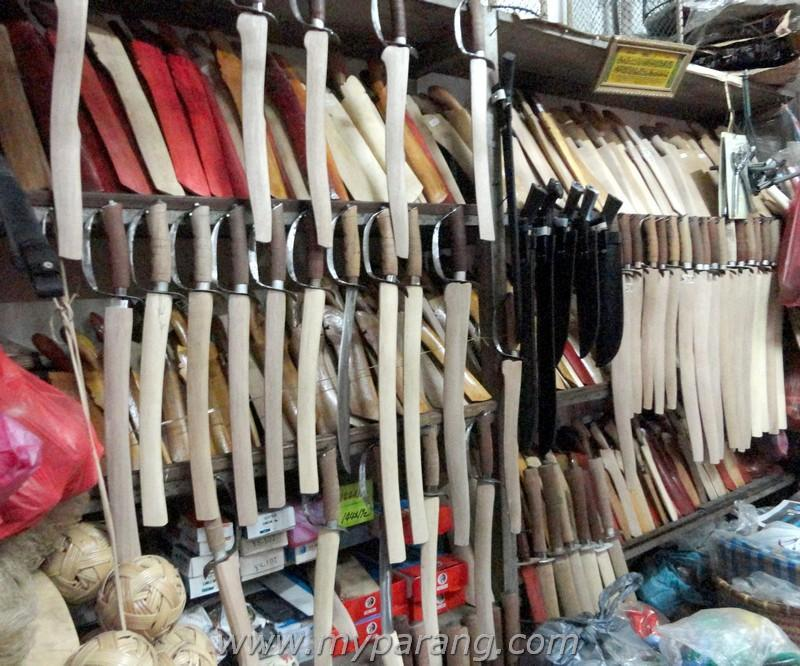facao: (80, 194, 133, 564), (430, 199, 481, 541), (209, 215, 263, 536), (237, 197, 293, 505), (354, 309, 420, 559), (171, 196, 220, 523), (280, 205, 326, 495), (370, 5, 416, 262), (138, 200, 172, 528), (52, 0, 93, 256), (292, 0, 333, 241), (235, 0, 272, 246), (459, 0, 495, 235), (328, 198, 351, 481)
